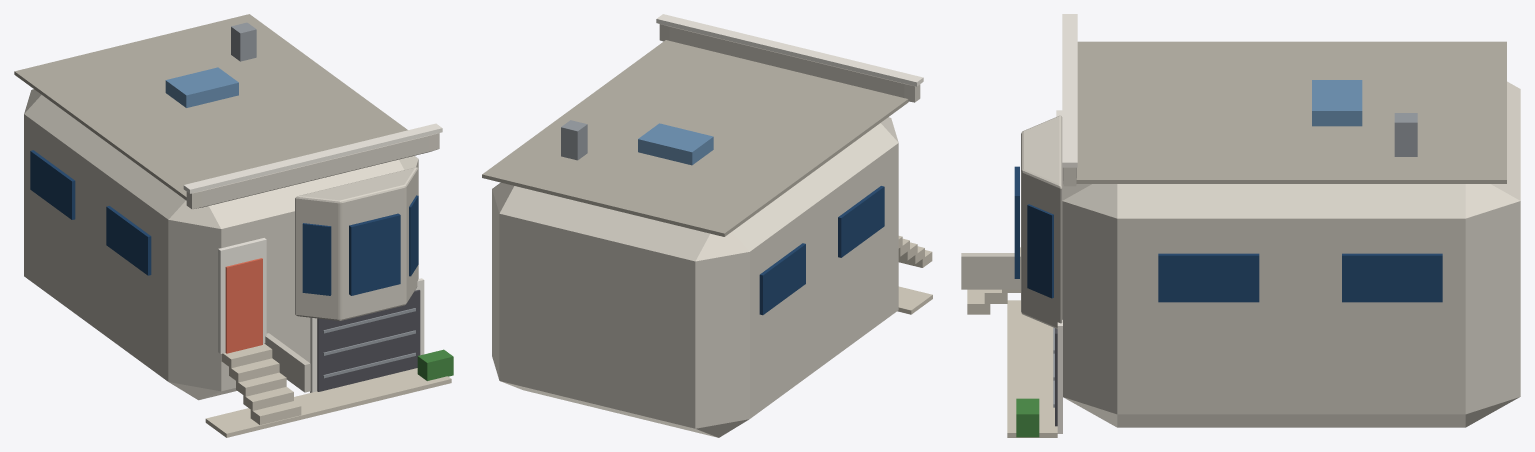
Rendered from sunset_w7_plain_bay_m.glb.
3 views of the same model, side by side, from view 1: azimuth 30°, elevation 25°; view 2: azimuth 150°, elevation 25°; view 3: azimuth 270°, elevation 25° (orthographic). The views are drawn at different scales.
Parts seen in each view (by area): view 1: walls, roofslab, bay, gdoor, patio, pp1, bw, door, pcap, bwa, skylt, dfr (+12 smaller); view 2: walls, roofslab, pp1, pcap, skylt, sb.002, sb, pipe, patio; view 3: walls, roofslab, bay, sb.001, sb.003, patio, pcap, skylt, bwa.001, srail, pipe, hedge (+3 smaller).
Part boxes in pixels (box(x1,y1,x2,y2)): walls: box(24, 89, 418, 400); roofslab: box(14, 14, 407, 200); bay: box(295, 167, 418, 320); gdoor: box(317, 290, 420, 391); patio: box(205, 368, 451, 437); pp1: box(186, 133, 439, 209); bw: box(349, 213, 400, 295); door: box(225, 258, 262, 353); pcap: box(183, 123, 442, 193); bwa: box(302, 223, 331, 295); skylt: box(165, 67, 238, 107); dfr: box(218, 238, 266, 353); walls: box(492, 117, 898, 437); roofslab: box(482, 40, 908, 236); pp1: box(659, 24, 920, 102); pcap: box(656, 14, 923, 86); skylt: box(638, 123, 713, 165); sb.002: box(759, 243, 805, 315); sb: box(838, 186, 884, 257); pipe: box(561, 120, 587, 160); patio: box(897, 286, 932, 314); walls: box(1062, 81, 1520, 427); roofslab: box(1076, 41, 1506, 183); bay: box(1021, 115, 1062, 328); sb.001: box(1158, 253, 1259, 302); sb.003: box(1342, 253, 1442, 302); patio: box(1007, 300, 1057, 437); pcap: box(1062, 14, 1077, 167); skylt: box(1312, 80, 1362, 126); bwa.001: box(1027, 204, 1053, 298); srail: box(961, 253, 1020, 289); pipe: box(1394, 113, 1417, 156); hedge: box(1016, 398, 1039, 437).
Bounding box in the file's own units: 7.8 × 7.1 × 12.2.
